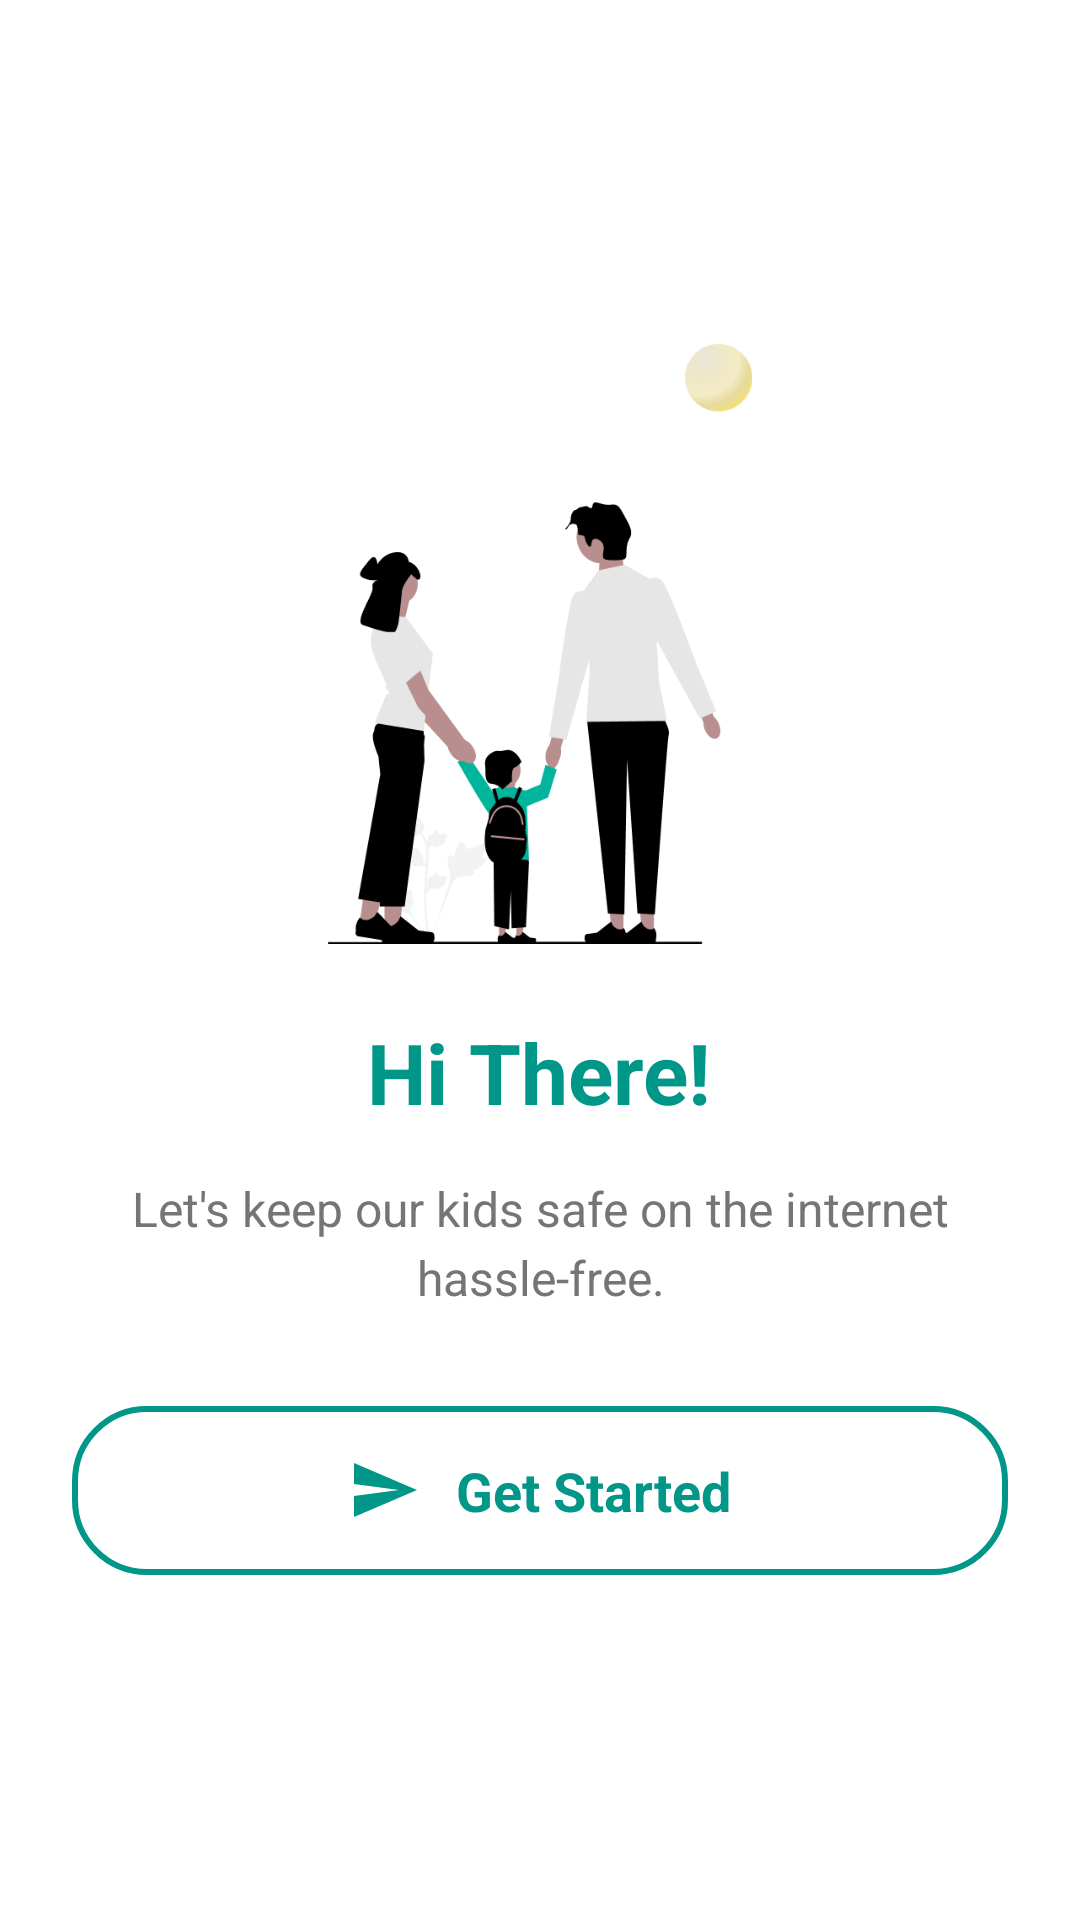

Point at icon controls on the screen. Image size 1080x1920, points as (x,y).
Paper Plane Icon: (385,1490)
